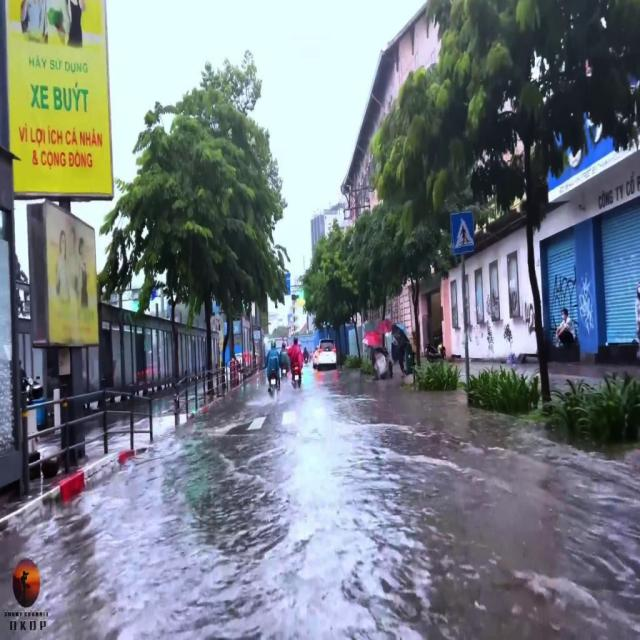duong_nguoi_di_bo_sang_ngang: (450, 213, 474, 254)
